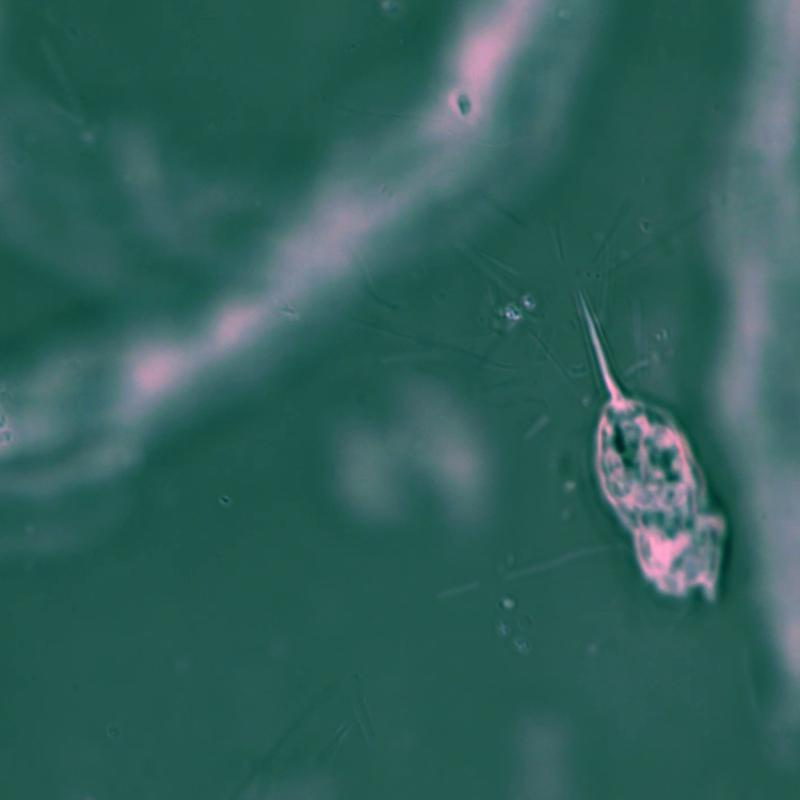depth:20: (559, 281, 776, 617)
